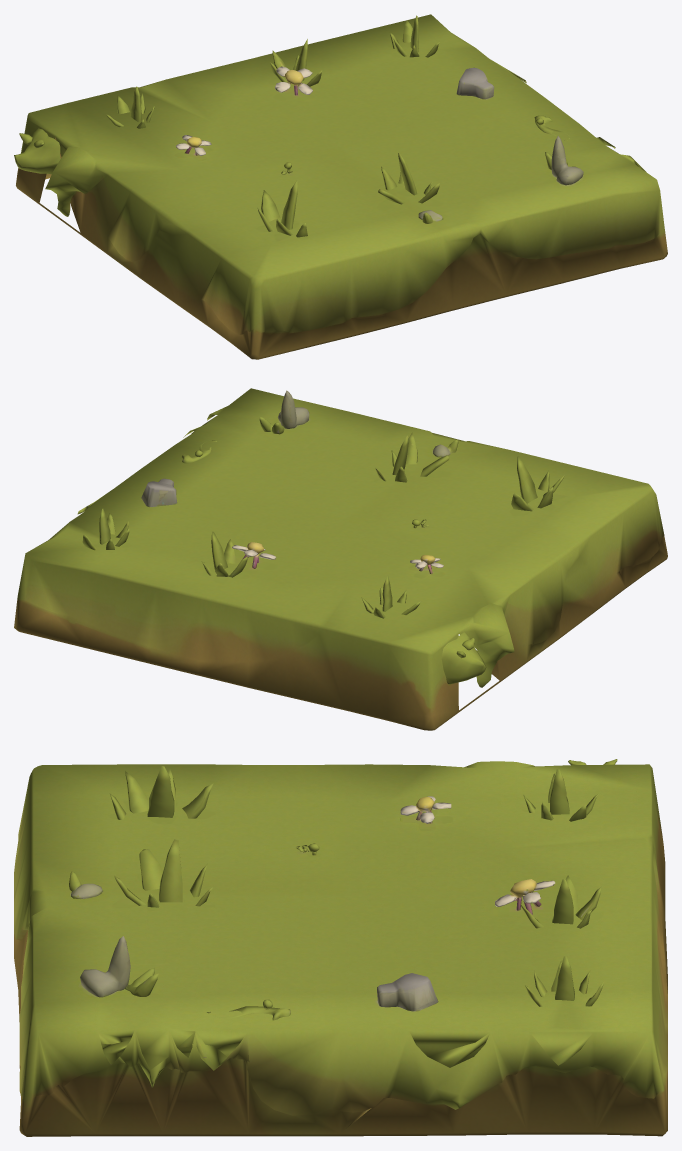
File: grass.fbx
3 views of the same model, one above another, from view 1: azimuth 30°, elevation 25°; view 2: azimuth 150°, elevation 25°; view 3: azimuth 270°, elevation 25° (orthographic). The views are drawn at different scales.
Parts seen in each view (by area): view 1: tripo_node_49fc15bc; view 2: tripo_node_49fc15bc; view 3: tripo_node_49fc15bc.
Boxes of the visible parts, <box> form: tripo_node_49fc15bc: <box>14,14,667,359</box>; tripo_node_49fc15bc: <box>14,388,667,730</box>; tripo_node_49fc15bc: <box>14,759,667,1136</box>.
Bounding box in the file's own units: 0.998 × 0.2441 × 0.9082.
